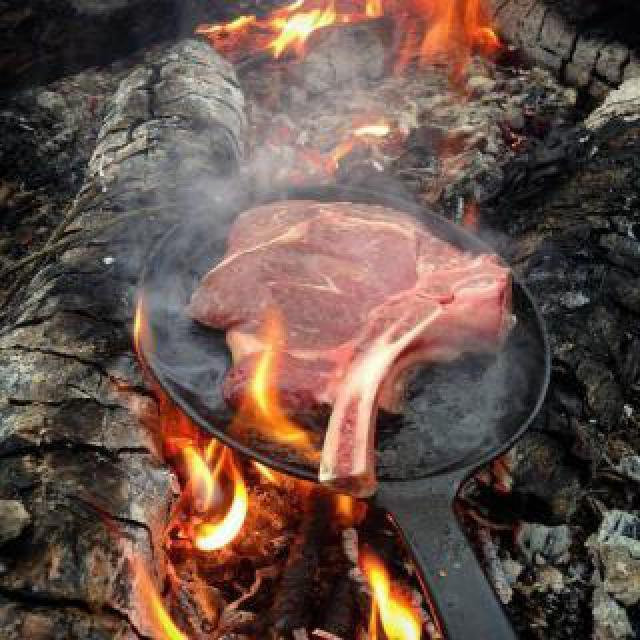Fire: (136, 340, 430, 638), (213, 1, 503, 78)
Smoke: (110, 32, 564, 428)
